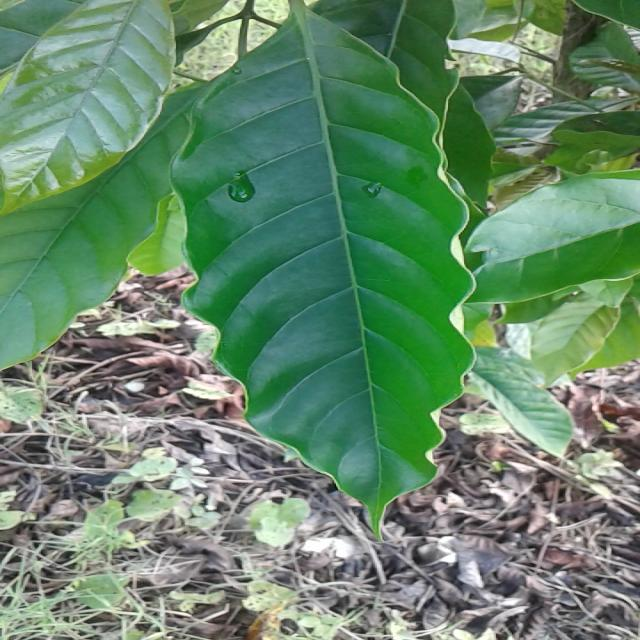Sanas: (126, 0, 489, 530)
